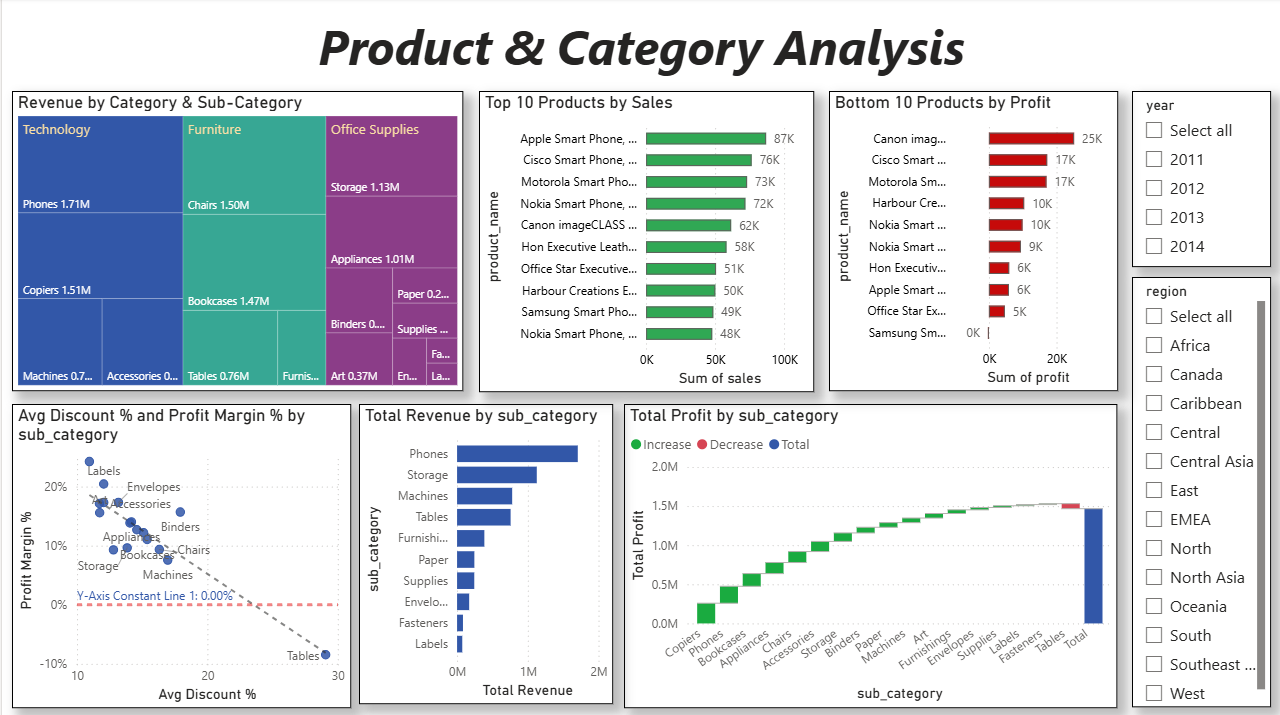

The page's visual inventory and layout, read from the dashboard file:
{"tool":"powerbi","page":{"name":"Product & Category Analysis","canvas":[1280,720],"ordinal":2},"visuals":[{"type":"treemap","title":"Revenue by Category & Sub-Category","fields":{"Group":["superstore_clean.category"],"Values":["superstore_clean.Total Revenue"],"Details":["superstore_clean.sub_category"]},"box":[9.9,93.1,451.3,300],"z":0},{"type":"scatterChart","fields":{"X":["superstore_clean.Avg Discount %"],"Y":["superstore_clean.Profit Margin %"],"Category":["superstore_clean.sub_category"]},"box":[9.9,405.7,338.5,303.6],"z":1000},{"type":"waterfallChart","fields":{"Category":["superstore_clean.sub_category"],"Y":["superstore_clean.Total Profit"]},"box":[621.5,405.7,493.4,303.6],"z":2000},{"type":"barChart","fields":{"Category":["superstore_clean.sub_category"],"Y":["superstore_clean.Total Revenue"]},"box":[356.4,405.7,254.3,300],"z":3000},{"type":"slicer","fields":{"Values":["superstore_clean.year"]},"box":[1129.1,92.9,138.9,175.9],"z":4000},{"type":"slicer","fields":{"Values":["superstore_clean.region"]},"box":[1129.2,279.1,139.1,429.9],"z":5000},{"type":"textbox","box":[10,10,1258,75.9],"z":6000},{"type":"barChart","title":"Top 10 Products by Sales","fields":{"Category":["superstore_clean.product_name"],"Y":["Sum(superstore_clean.sales)"]},"box":[476.6,92.9,334.7,300.8],"z":7000},{"type":"barChart","title":"Bottom 10 Products by Profit","fields":{"Category":["superstore_clean.product_name"],"Y":["Sum(superstore_clean.profit)"]},"box":[826.4,92.9,288.8,299.8],"z":8000}]}

Visuals, with their boxes in screenshot pixels (x1, y1, x2, y2), scaled from the page's 1280x720 canvas onto the 1280x715 screenshot:
"Revenue by Category & Sub-Category" treemap: [left=10, top=92, right=461, bottom=390]
scatterChart - superstore_clean.Avg Discount % x superstore_clean.Profit Margin %: [left=10, top=403, right=348, bottom=704]
waterfallChart - superstore_clean.sub_category x superstore_clean.Total Profit: [left=622, top=403, right=1115, bottom=704]
barChart - superstore_clean.sub_category x superstore_clean.Total Revenue: [left=356, top=403, right=611, bottom=701]
slicer - superstore_clean.year: [left=1129, top=92, right=1268, bottom=267]
slicer - superstore_clean.region: [left=1129, top=277, right=1268, bottom=704]
textbox: [left=10, top=10, right=1268, bottom=85]
"Top 10 Products by Sales" barChart: [left=477, top=92, right=811, bottom=391]
"Bottom 10 Products by Profit" barChart: [left=826, top=92, right=1115, bottom=390]
